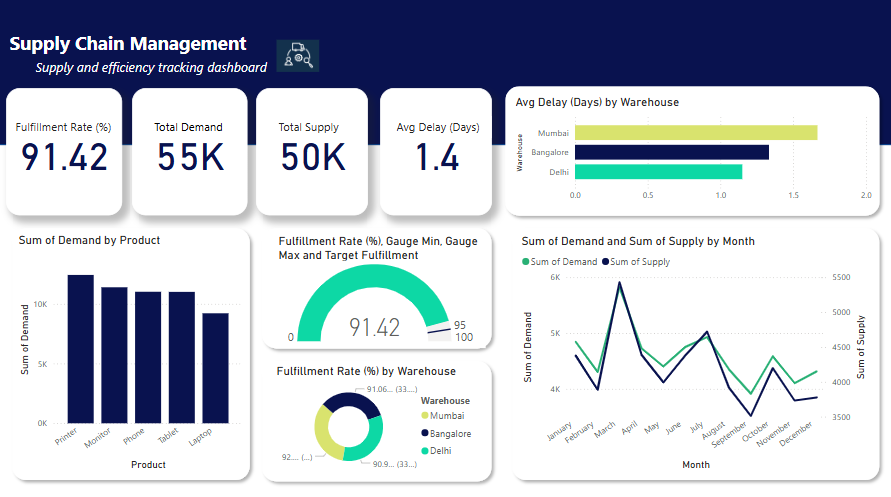

The page's visual inventory and layout, read from the dashboard file:
{"tool":"powerbi","page":{"name":"Page 1","canvas":[1280,720],"ordinal":0},"visuals":[{"type":"shape","box":[0,0,1279.8,213.1],"z":0},{"type":"textbox","box":[11.8,42.6,357.1,51.4],"z":1000},{"type":"textbox","box":[48.5,82.3,496.7,48.5],"z":2000},{"type":"card","fields":{"Values":["supply_chain_clean_dataset.Fulfillment Rate (%)"]},"box":[11.8,130.8,166,182.2],"z":3000},{"type":"card","fields":{"Values":["Sum(supply_chain_clean_dataset.Demand)"]},"box":[191,130.8,164.6,182.2],"z":4000},{"type":"card","fields":{"Values":["Sum(supply_chain_clean_dataset.Supply)"]},"box":[368.8,130.8,160.2,182.2],"z":5000},{"type":"card","fields":{"Values":["supply_chain_clean_dataset.Avg Delay (Days)"]},"box":[545.1,130.8,160.2,182.2],"z":6000},{"type":"textbox","box":[213.1,171.9,119,30.9],"z":7000},{"type":"textbox","box":[395.3,171.9,108.7,30.9],"z":8000},{"type":"textbox","box":[20.6,171.9,148.4,30.9],"z":9000},{"type":"textbox","box":[564.2,171.9,141.1,30.9],"z":10000},{"type":"shape","box":[715.6,120.5,552.5,202.8],"z":11000},{"type":"shape","box":[725.9,323.3,542.2,377.6],"z":12000},{"type":"shape","box":[11.8,323.3,357.1,377.6],"z":13000},{"type":"shape","box":[368.8,512.8,345.3,189.6],"z":14000},{"type":"lineChart","fields":{"Category":["supply_chain_clean_dataset.Month.Variation.Date Hierarchy.Month"],"Y":["Sum(supply_chain_clean_dataset.Demand)"],"Y2":["Sum(supply_chain_clean_dataset.Supply)"]},"box":[743.5,339.4,501.1,342.4],"z":15000},{"type":"clusteredColumnChart","fields":{"Category":["supply_chain_clean_dataset.Product"],"Y":["Sum(supply_chain_clean_dataset.Demand)"]},"box":[25,338,330.6,343.8],"z":16000},{"type":"shape","box":[368.8,323.3,345.3,189.6],"z":17000},{"type":"donutChart","fields":{"Y":["supply_chain_clean_dataset.Fulfillment Rate (%)"],"Category":["supply_chain_clean_dataset.Warehouse"]},"box":[392.3,526,304.2,160.2],"z":17001},{"type":"clusteredBarChart","fields":{"Y":["supply_chain_clean_dataset.Avg Delay (Days)"],"Category":["supply_chain_clean_dataset.Warehouse"]},"box":[734.7,141.1,518.7,161.6],"z":17002},{"type":"gauge","fields":{"Y":["supply_chain_clean_dataset.Fulfillment Rate (%)"],"MinValue":["supply_chain_clean_dataset.Gauge Min"],"MaxValue":["supply_chain_clean_dataset.Gauge Max"],"TargetValue":["supply_chain_clean_dataset.Target Fulfillment"]},"box":[395.3,339.4,301.2,163.1],"z":17003},{"type":"image","box":[392.9,51.4,71.4,68.6],"z":17004}]}

Visuals, with their boxes in screenshot pixels (x1, y1, x2, y2), scaled from the page's 1280x720 canvas onto the 891x497 screenshot:
shape: 0:0:890:147
textbox: 8:29:257:65
textbox: 34:57:380:90
card - supply_chain_clean_dataset.Fulfillment Rate (%): 8:90:124:216
card - Sum(supply_chain_clean_dataset.Demand): 133:90:248:216
card - Sum(supply_chain_clean_dataset.Supply): 257:90:368:216
card - supply_chain_clean_dataset.Avg Delay (Days): 379:90:491:216
textbox: 148:119:231:140
textbox: 275:119:351:140
textbox: 14:119:118:140
textbox: 393:119:491:140
shape: 498:83:883:223
shape: 505:223:883:484
shape: 8:223:257:484
shape: 257:354:497:485
lineChart - supply_chain_clean_dataset.Month.Variation.Date Hierarchy.Month x Sum(supply_chain_clean_dataset.Demand): 518:234:866:471
clusteredColumnChart - supply_chain_clean_dataset.Product x Sum(supply_chain_clean_dataset.Demand): 17:233:248:471
shape: 257:223:497:354
donutChart - supply_chain_clean_dataset.Fulfillment Rate (%) x supply_chain_clean_dataset.Warehouse: 273:363:485:474
clusteredBarChart - supply_chain_clean_dataset.Avg Delay (Days) x supply_chain_clean_dataset.Warehouse: 511:97:872:209
gauge - supply_chain_clean_dataset.Fulfillment Rate (%) x supply_chain_clean_dataset.Gauge Min: 275:234:485:347
image: 273:35:323:83
